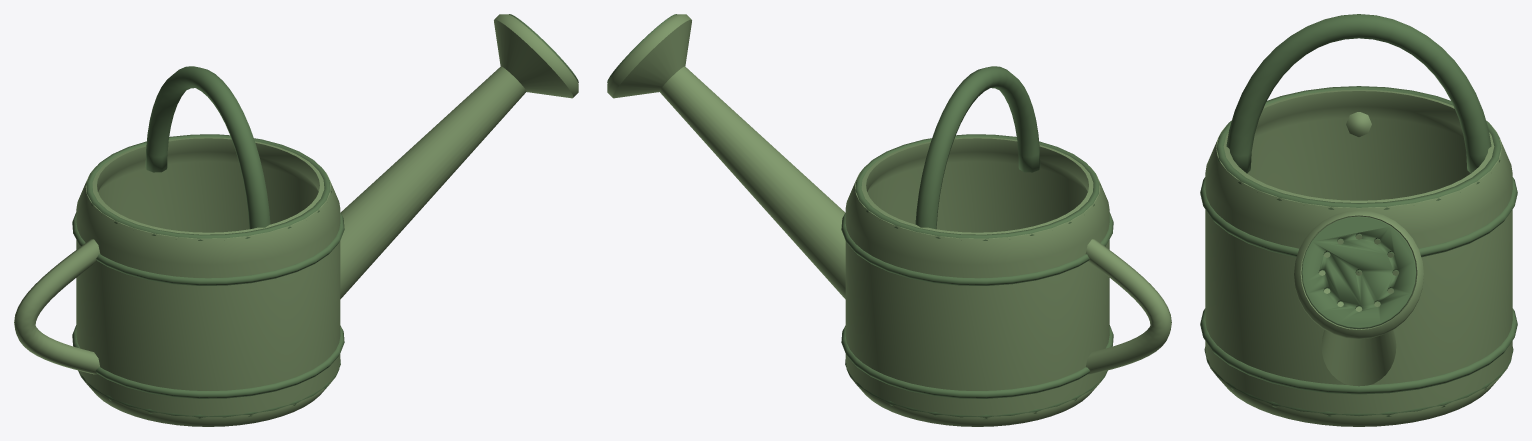
The model's file is watering_can.glb.
3 renders of one model, left to right at view 1: azimuth 30°, elevation 25°; view 2: azimuth 150°, elevation 25°; view 3: azimuth 270°, elevation 25°, orthographic. The views are drawn at different scales.
Visible parts, largest first — view 1: can; view 2: can; view 3: can.
Part boxes in pixels (bbox=[...]): can: bbox=[14, 14, 578, 426]; can: bbox=[607, 14, 1171, 426]; can: bbox=[1200, 14, 1517, 426].
Bounding box in the file's own units: 0.3439 × 0.18 × 0.1468.
